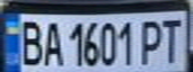0: (100, 18, 118, 66)
1: (115, 18, 139, 66), (63, 18, 84, 66)
6: (81, 18, 103, 68)
A: (39, 17, 63, 68)
B: (15, 17, 45, 66)
P: (136, 16, 166, 65)
T: (157, 15, 187, 64)
